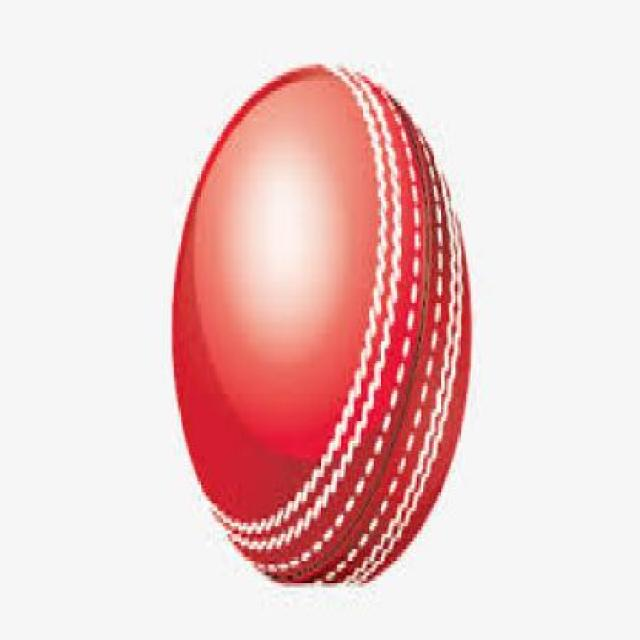ball: (130, 34, 509, 602)
